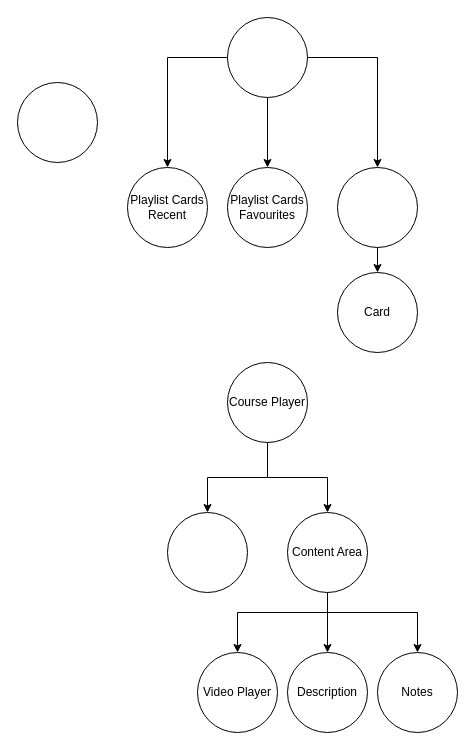
Image size: 475x750. Some labels were removed from this diagram. The shapes that lost their labels are listed below. From the top down, each one's centre as x and y in pixels, then its label:
point (267, 57): APP
point (57, 122): New Button
point (377, 207): Playlist Cards All
point (207, 552): Side Bar
